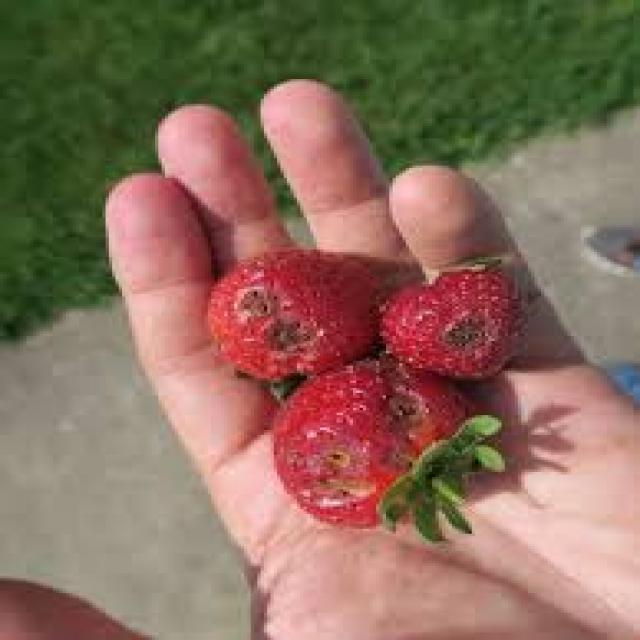Mancha negra Antracnosis: (285, 374, 488, 526), (204, 245, 380, 367), (380, 247, 532, 380)
